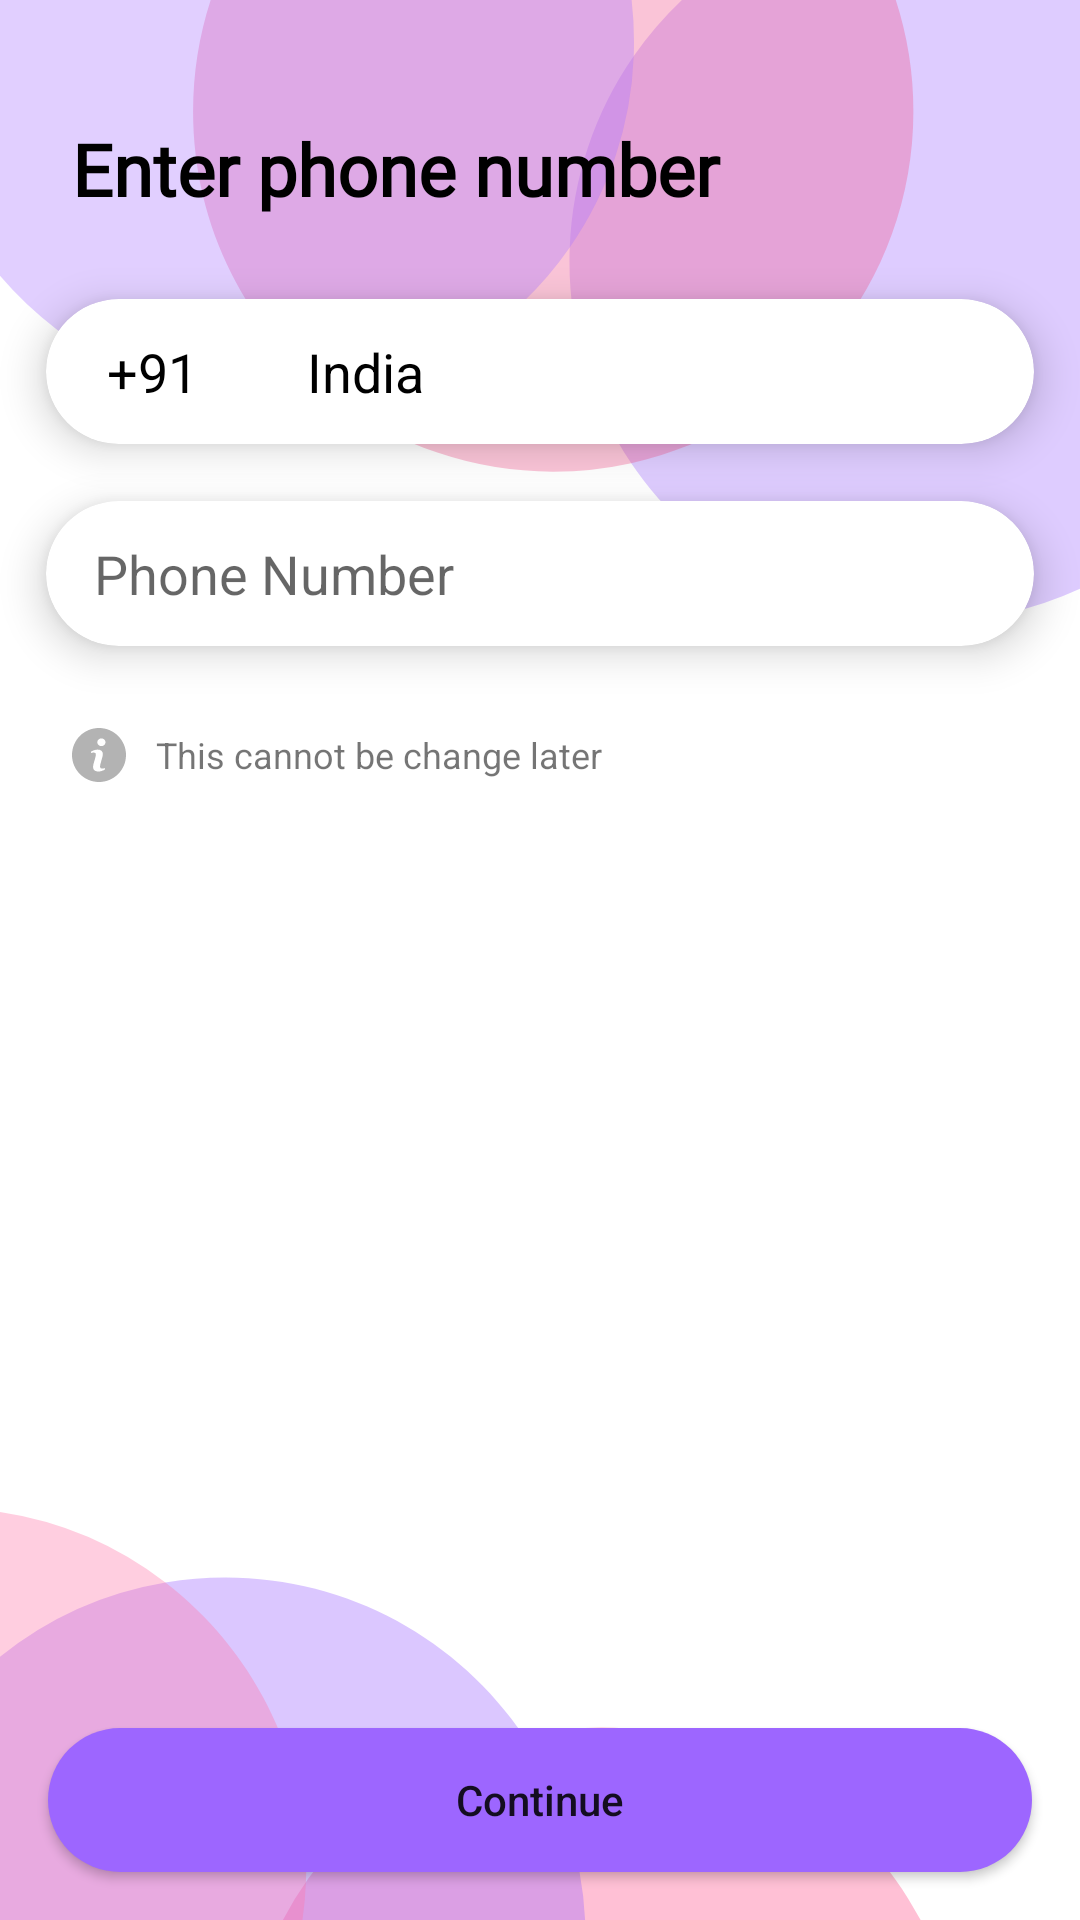

Screen size 1080 x 1920. Icon name, then its box in pixels as detection(x1, y1, x2, y2):
info: detection(72, 728, 126, 782)
